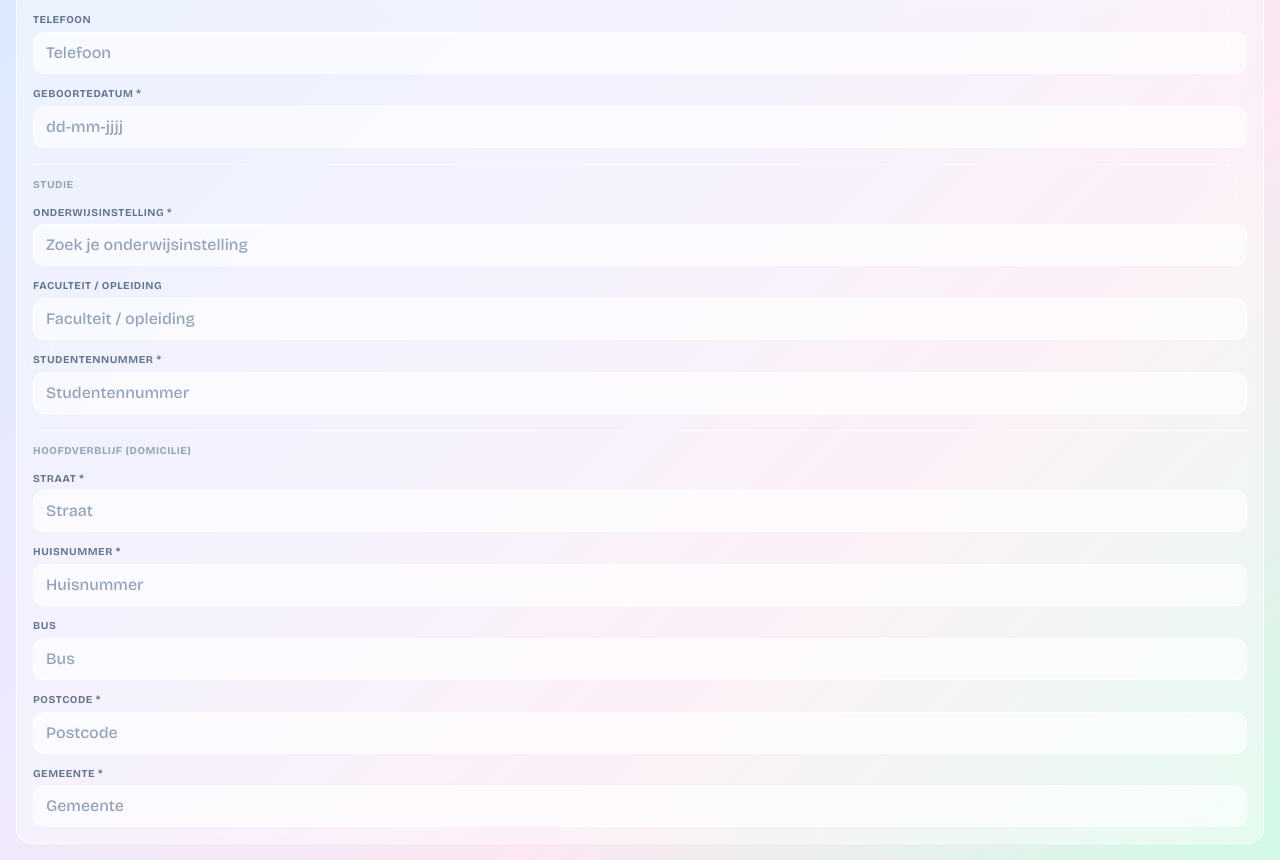
Test: Step2Student › toont een fout bij een ongeldige postcode na blur
The width and height of the screenshot is (1280, 860).
(page scrolled)
In the field labelled "Postcode": (640, 732) [33,712,1247,754], type "12"
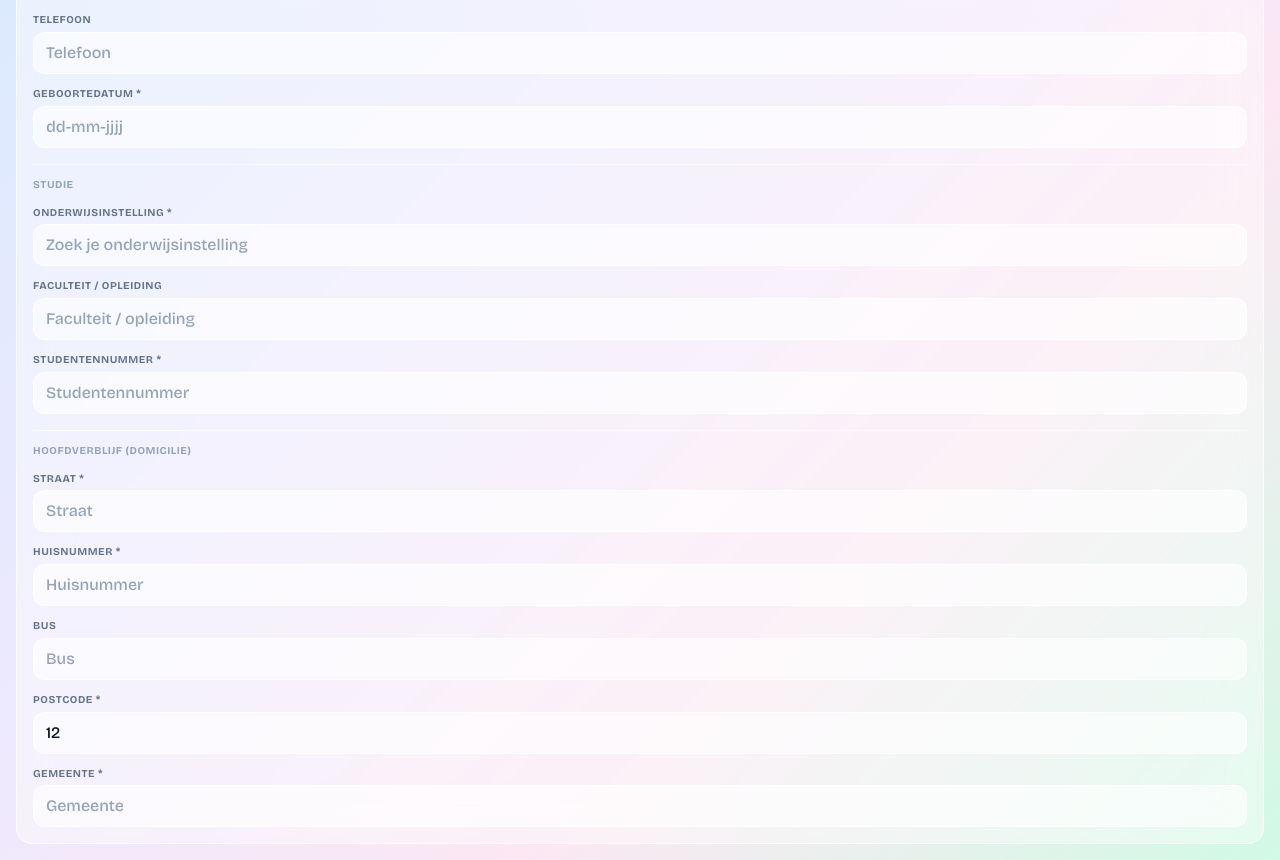
Leave the field labelled "Postcode", box [33,712,1247,754]
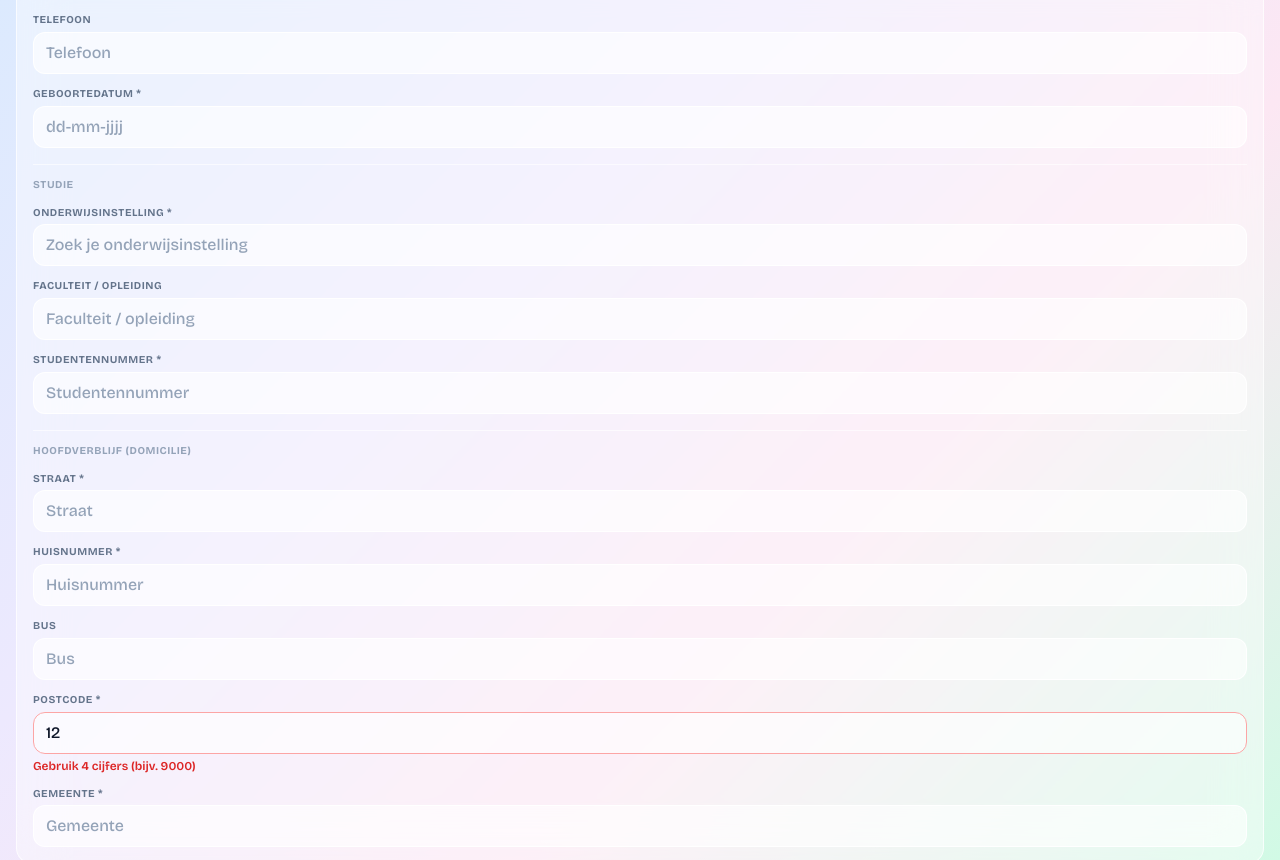
Check: the text "Gebruik 4 cijfers (bijv. 9000)" is shown, box [33,758,196,772]
